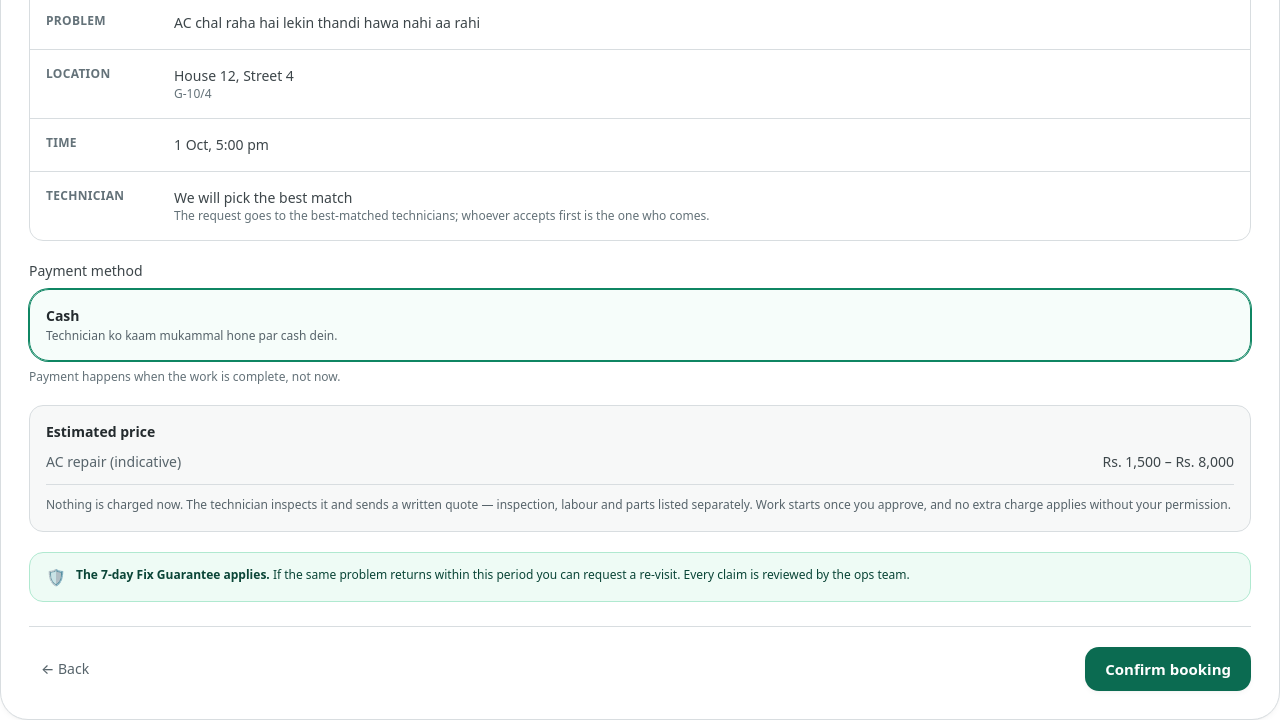
Test: confirm step › does not claim a booking exists when the request failed
(page scrolled)
Step 1. Click the button "Confirm booking" → (1168, 669), box [1085, 647, 1251, 691]
(page scrolled)
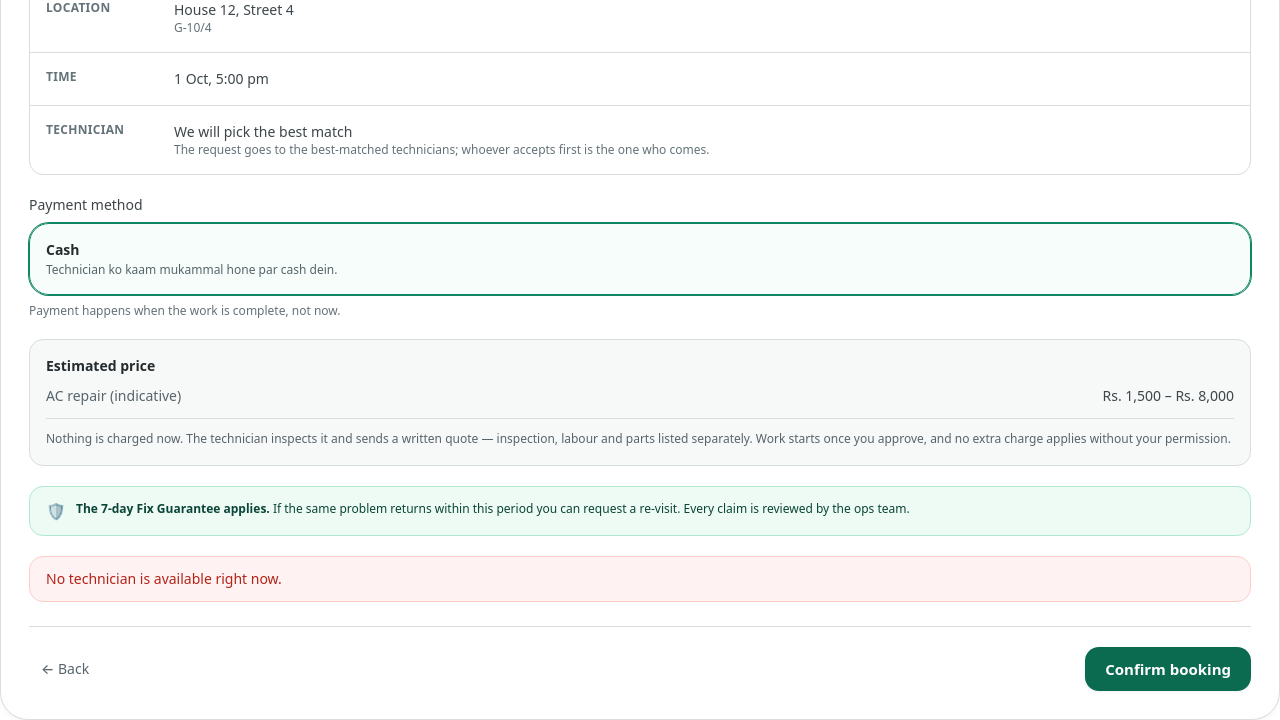
Result: the message shows "No technician is available" at [46, 569, 282, 588]
